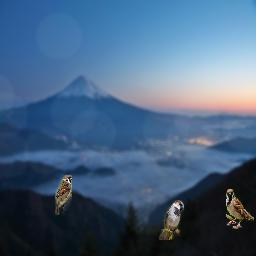Sparrow: (226, 189, 254, 229), (159, 200, 184, 240), (55, 175, 72, 215)
